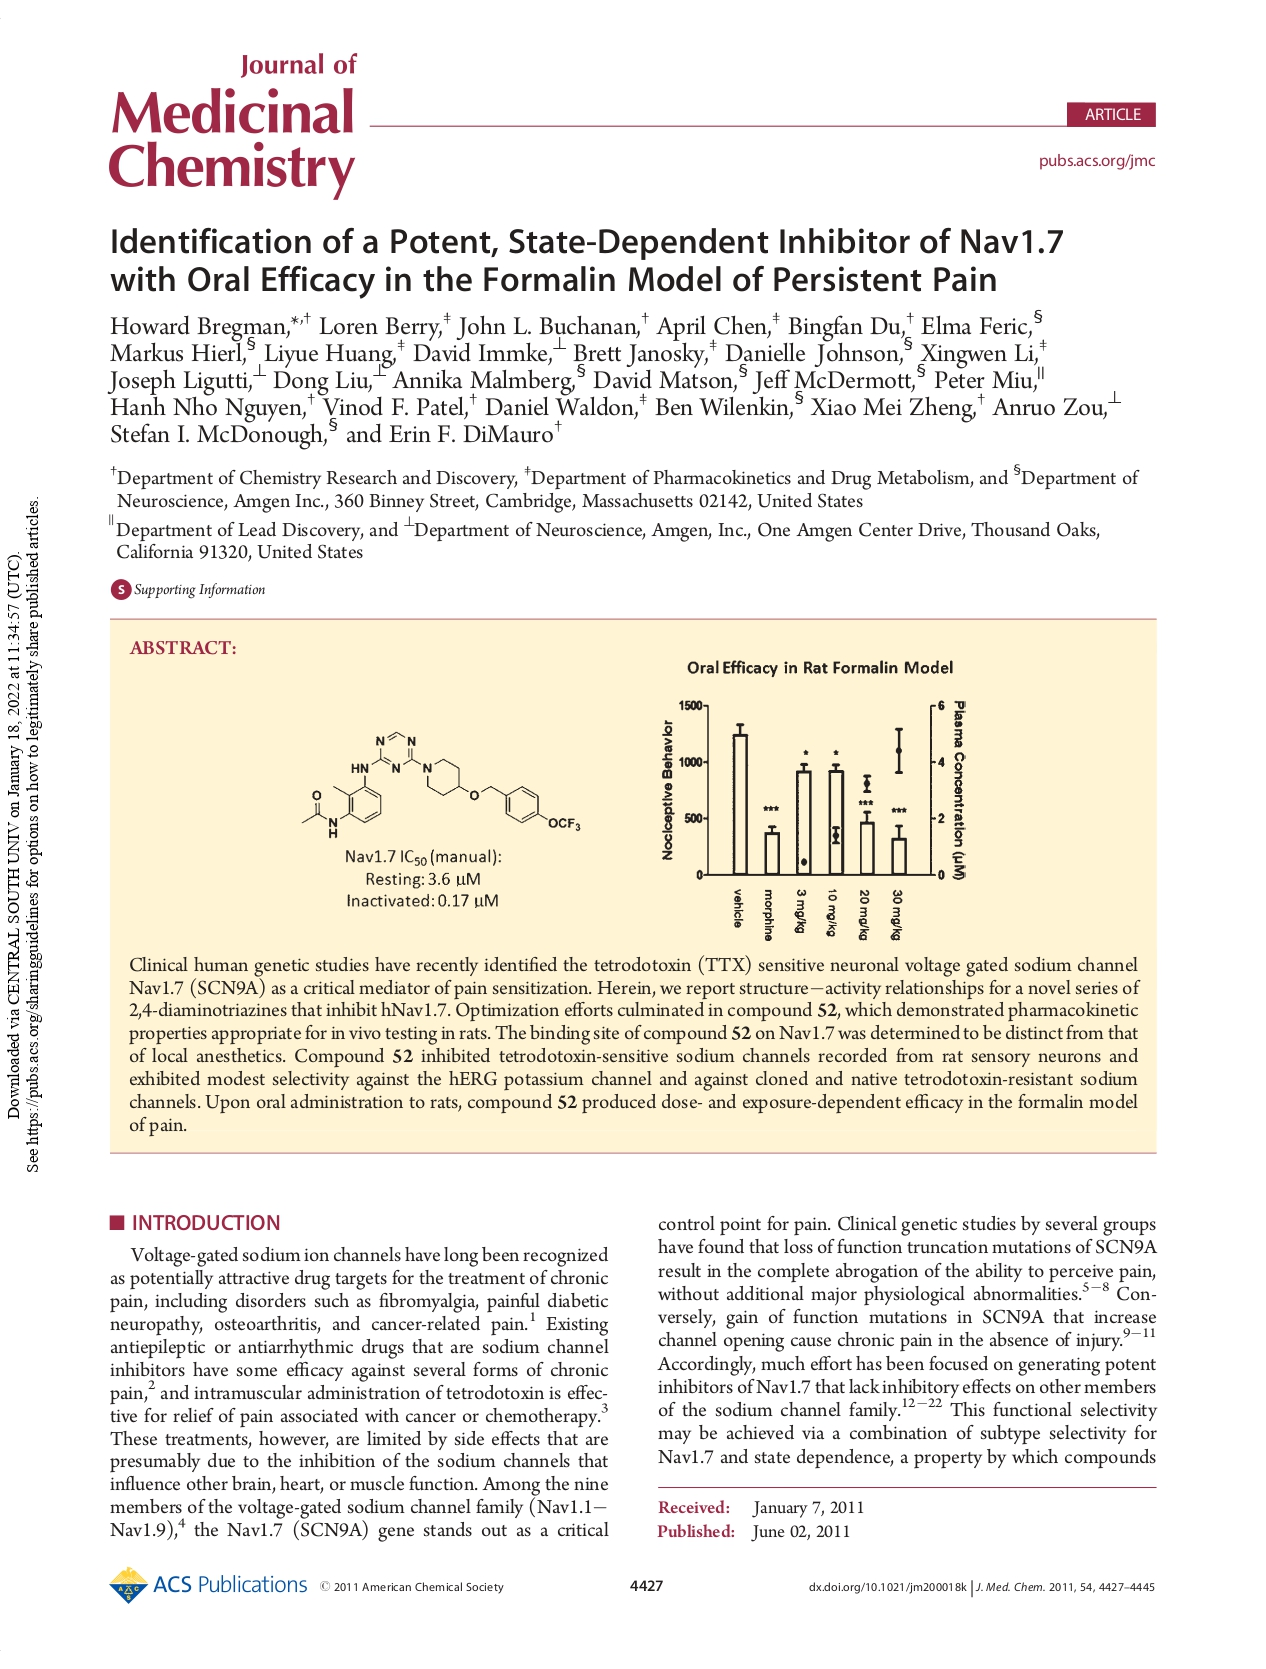exist_molecular: (298, 727, 586, 843)
